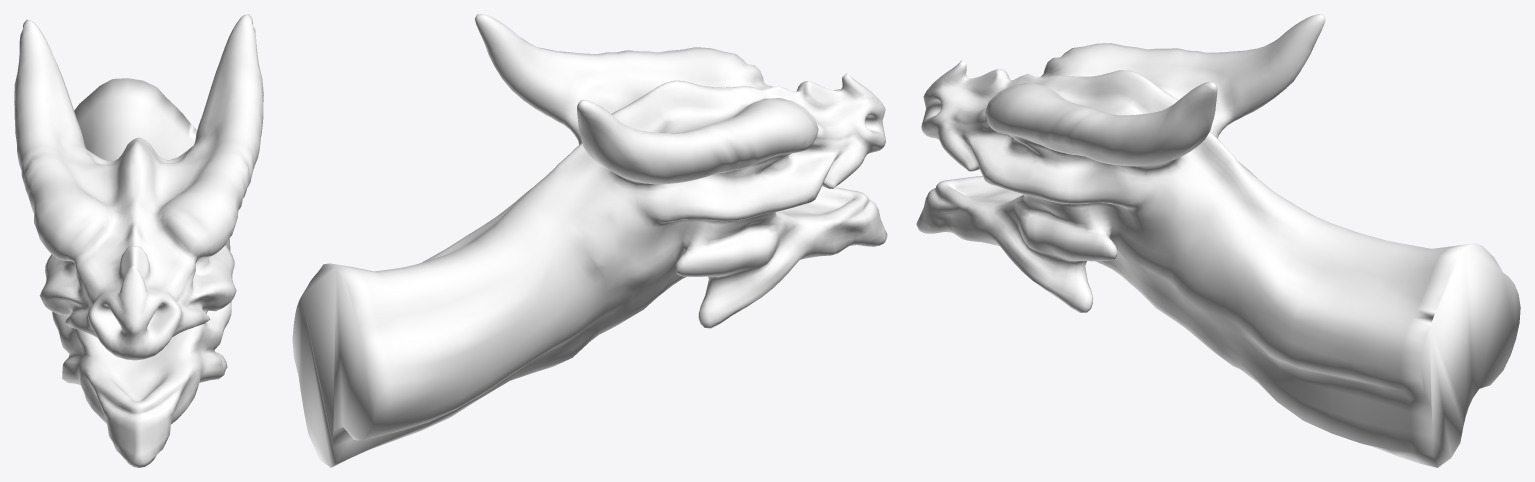
Rendered from Dragon_Cabeza_RD.obj.
The picture shows the model from 3 angles, left to right: view 1: azimuth 30°, elevation 25°; view 2: azimuth 150°, elevation 25°; view 3: azimuth 270°, elevation 25°; orthographic projection. The views are drawn at different scales.
Parts seen in each view (by area): view 1: Dragon_Cabeza_RD; view 2: Dragon_Cabeza_RD; view 3: Dragon_Cabeza_RD.
Boxes of the visible parts, <box> form: Dragon_Cabeza_RD: <box>14,14,263,467</box>; Dragon_Cabeza_RD: <box>292,14,887,467</box>; Dragon_Cabeza_RD: <box>916,14,1520,467</box>.
Size of the model in its own units: 1.75 by 1.75 by 2.64.
